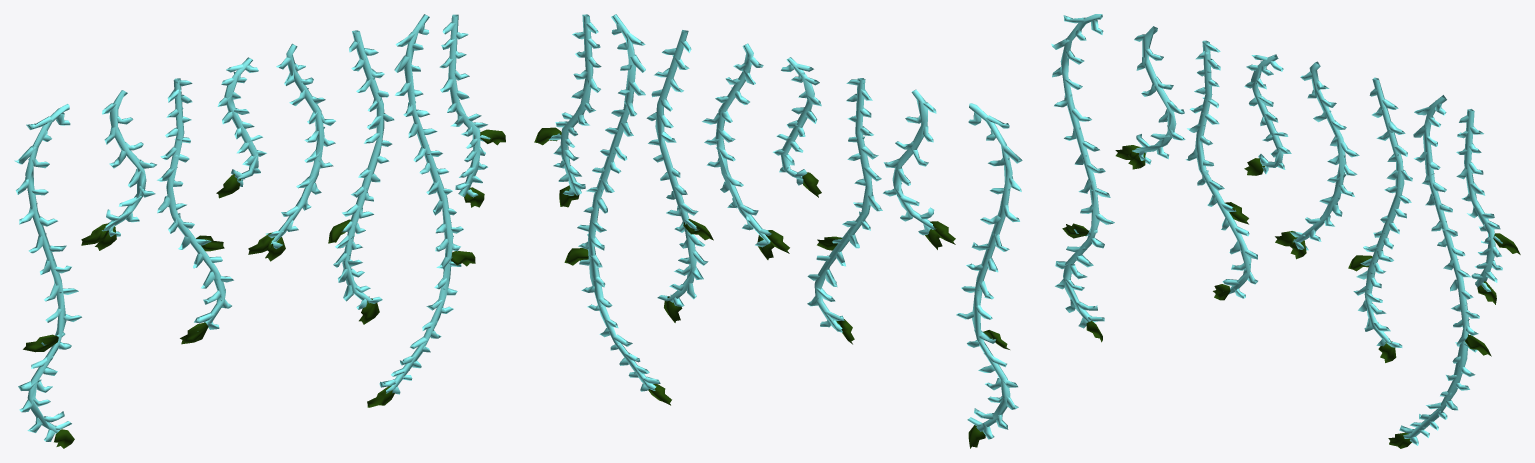
File: PlantaC.fbx
3 renders of one model, left to right at view 1: azimuth 30°, elevation 25°; view 2: azimuth 150°, elevation 25°; view 3: azimuth 330°, elevation 25°, orthographic. The views are drawn at different scales.
Visible parts, largest first — view 1: FolhasCipo3, Cipo3, Folhas3; view 2: FolhasCipo3, Cipo3, Folhas3; view 3: FolhasCipo3, Cipo3, Folhas3.
Boxes of the visible parts, x1,y1,x2,y2 form: FolhasCipo3: [14, 22, 490, 441]; Cipo3: [25, 14, 480, 433]; Folhas3: [23, 129, 505, 448]; FolhasCipo3: [549, 22, 1022, 439]; Cipo3: [560, 14, 1012, 431]; Folhas3: [534, 127, 1009, 448]; FolhasCipo3: [1051, 15, 1502, 445]; Cipo3: [1060, 14, 1495, 438]; Folhas3: [1062, 145, 1520, 448].
Bounding box in the file's own units: 203 × 151 × 3.89.
